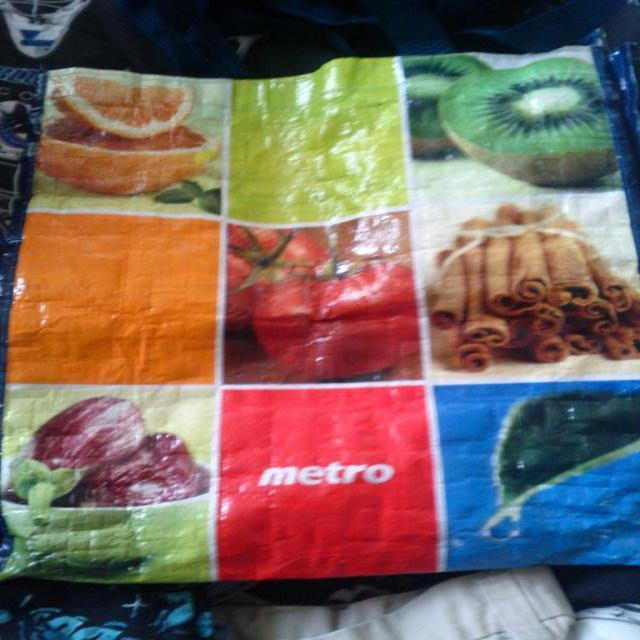Orange: (29, 116, 204, 196)
